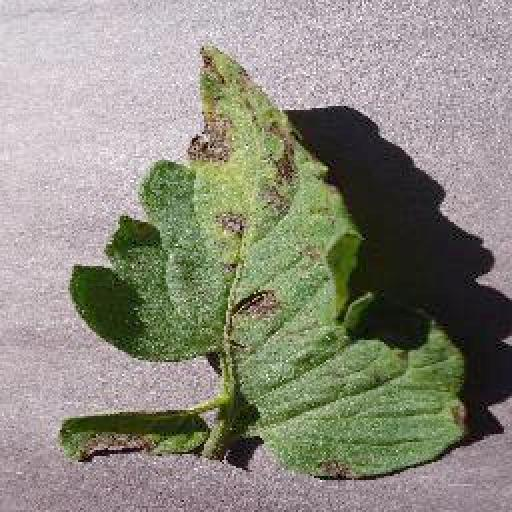Early Blight: (70, 42, 466, 484)
